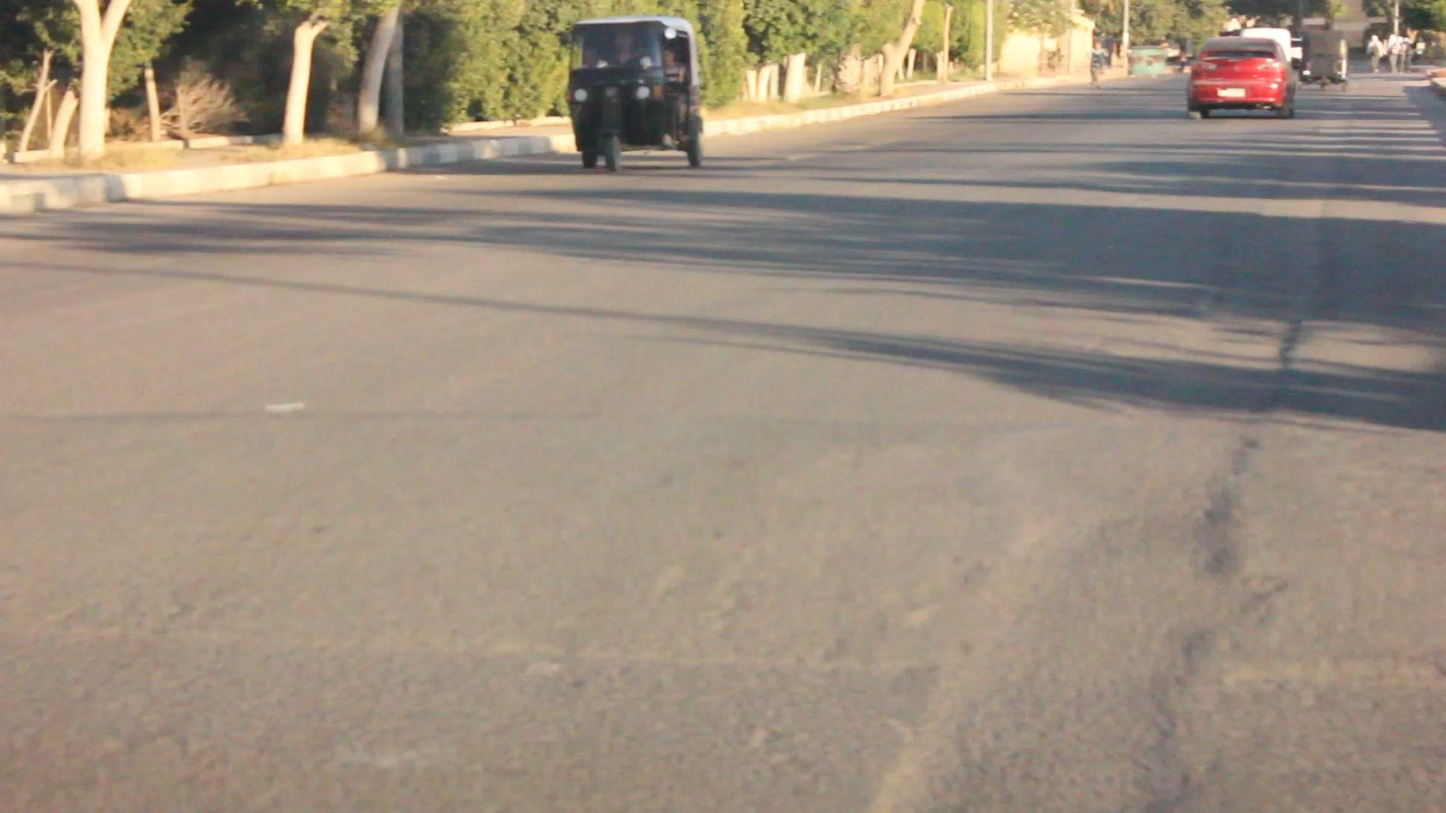Pothole: (847, 354, 1290, 811)
